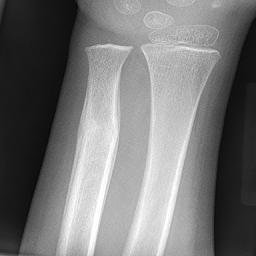cancer: (71, 82, 121, 194)
